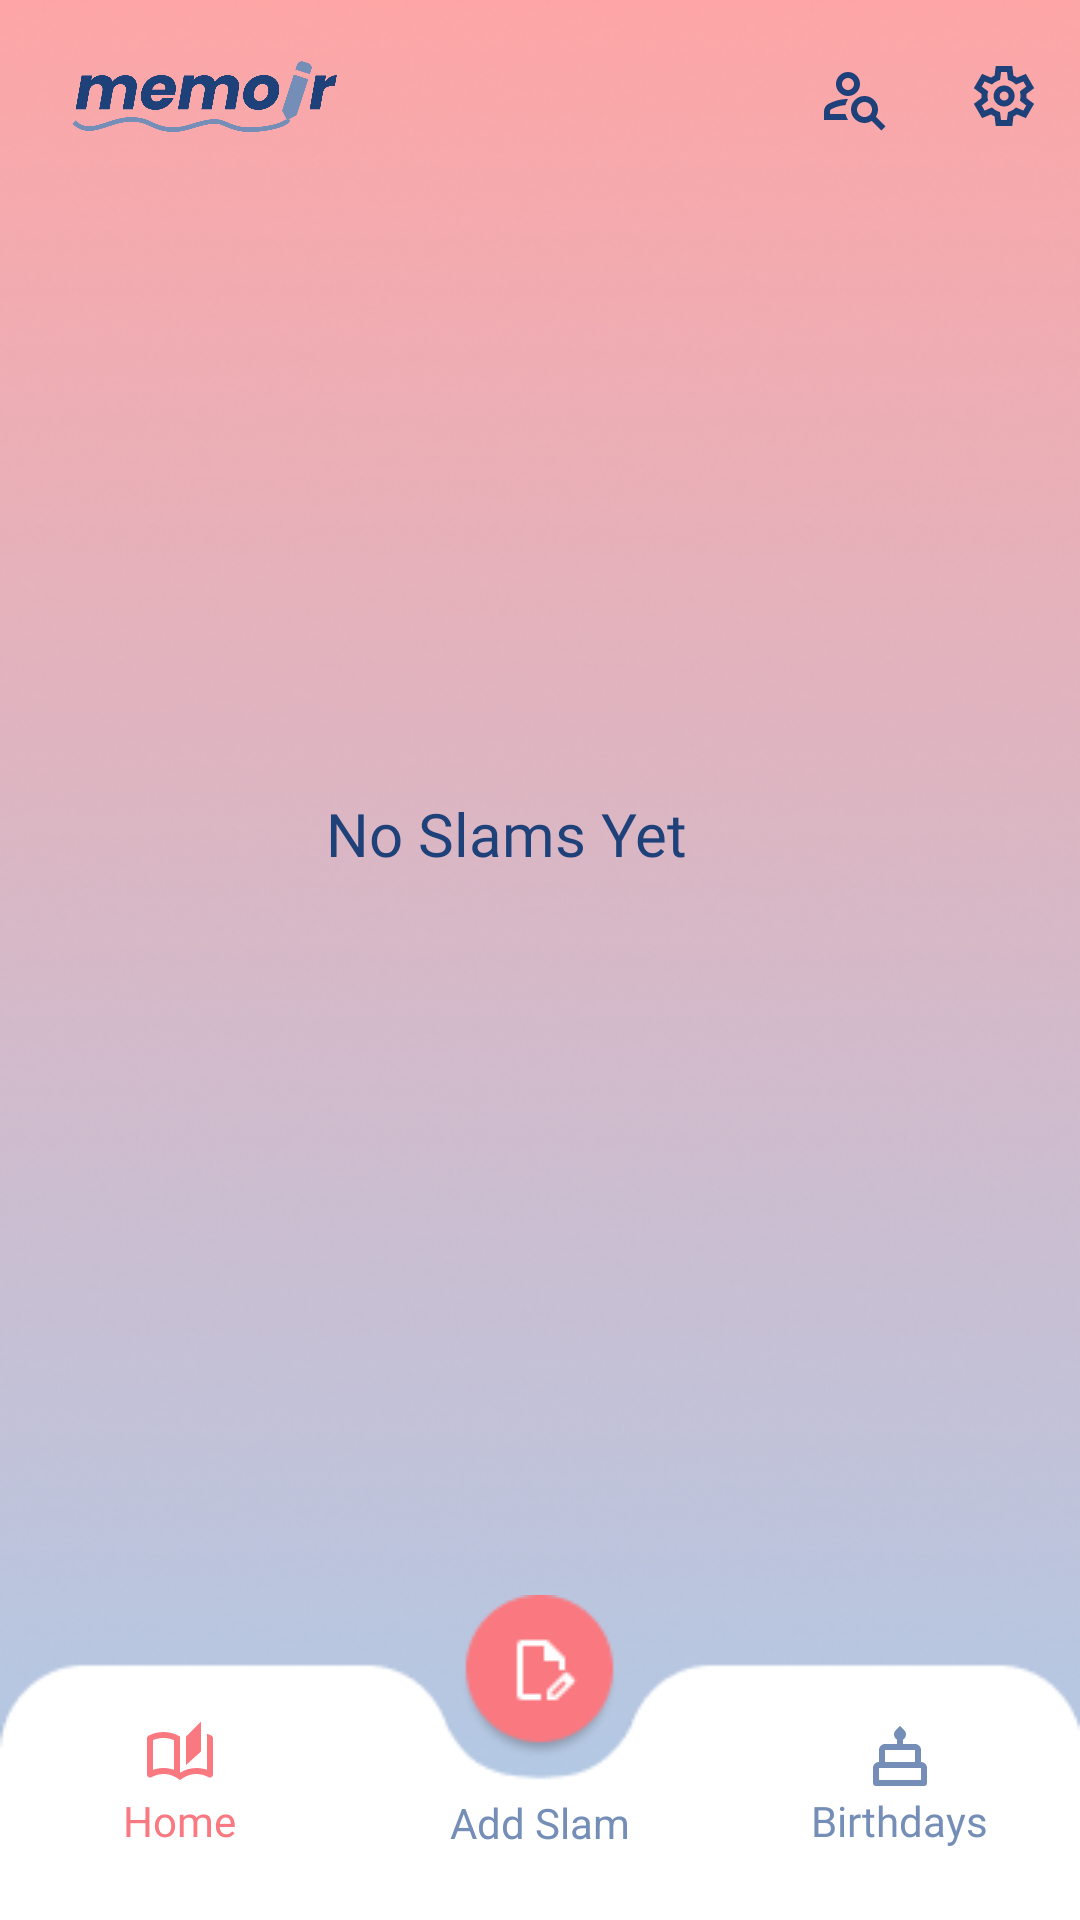

Screen size 1080w x 1920h. Icon name, then its center in pixels as (x=x, y=y):
person search: (x=855, y=101)
settings: (x=1004, y=96)
